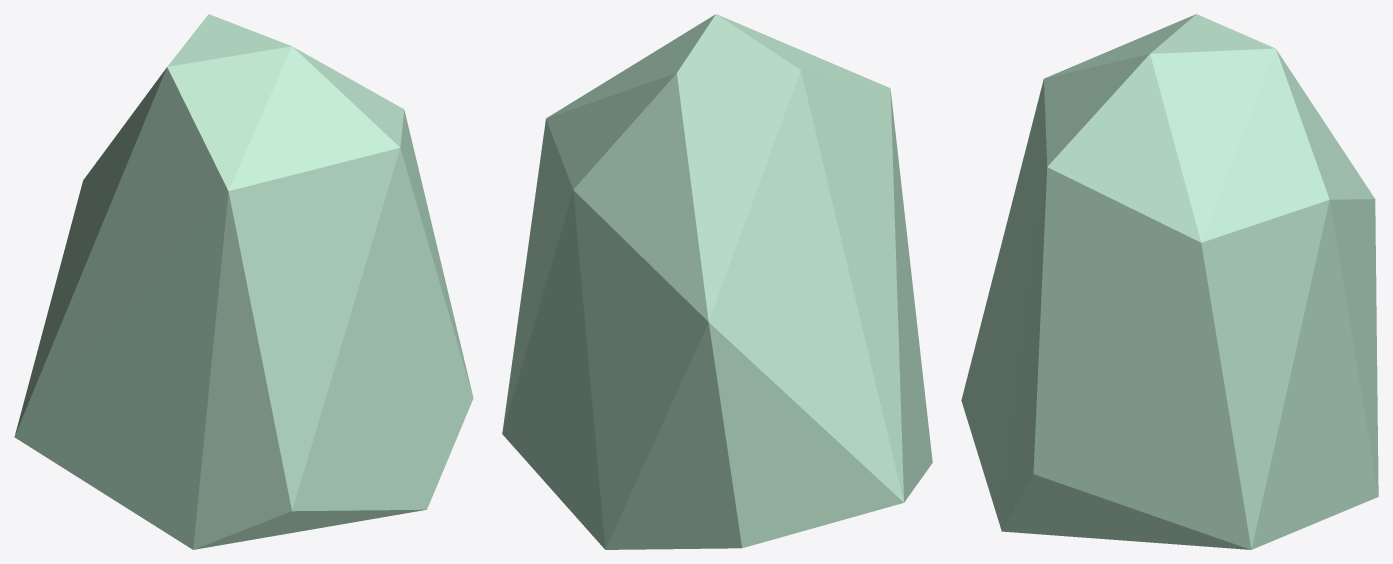
Rendered from rocks.fbx.
The picture shows the model from 3 angles, left to right: view 1: azimuth 30°, elevation 25°; view 2: azimuth 150°, elevation 25°; view 3: azimuth 270°, elevation 25°; orthographic projection. The views are drawn at different scales.
Parts seen in each view (by area): view 1: Rock4; view 2: Rock4; view 3: Rock4.
Boxes of the visible parts, x1,y1,x2,y2 form: Rock4: [14, 14, 473, 549]; Rock4: [502, 14, 932, 549]; Rock4: [961, 14, 1378, 549].
Bounding box in the file's own units: 1988 × 2124 × 1802.
